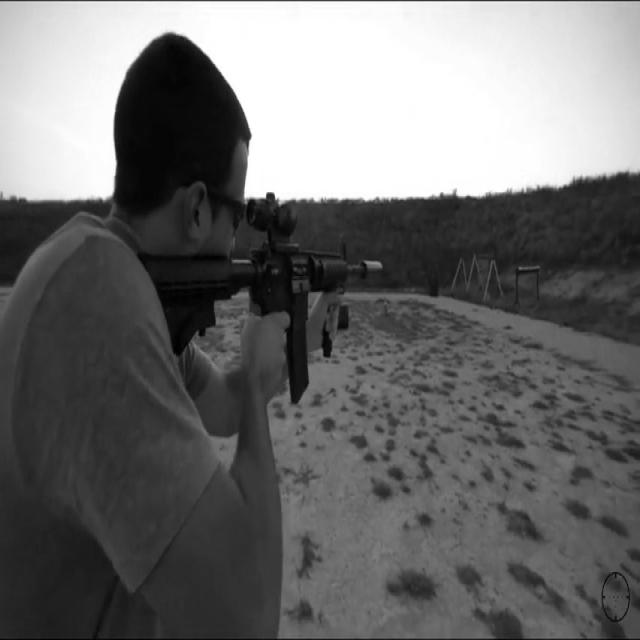Sniper: (107, 134, 460, 524)
